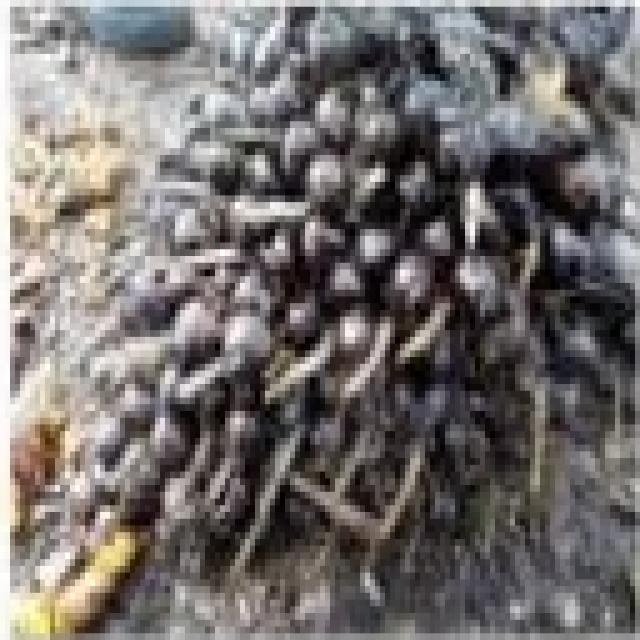FFB: (90, 19, 640, 604)
